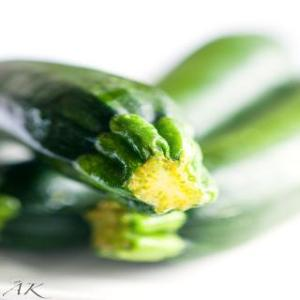zucchini: (0, 52, 222, 212)
